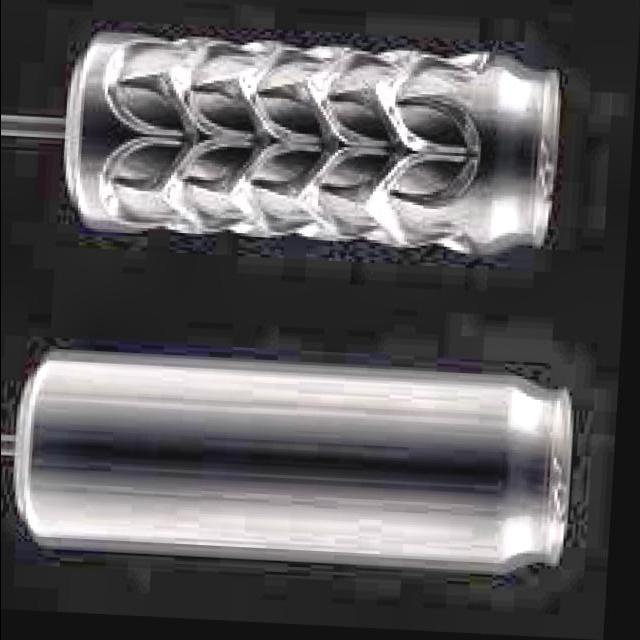Aluminum Can: (11, 346, 587, 584), (52, 22, 577, 270)
